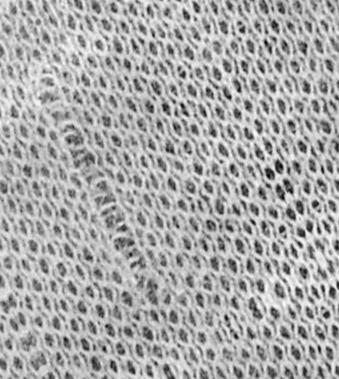slub: (34, 62, 160, 300)
